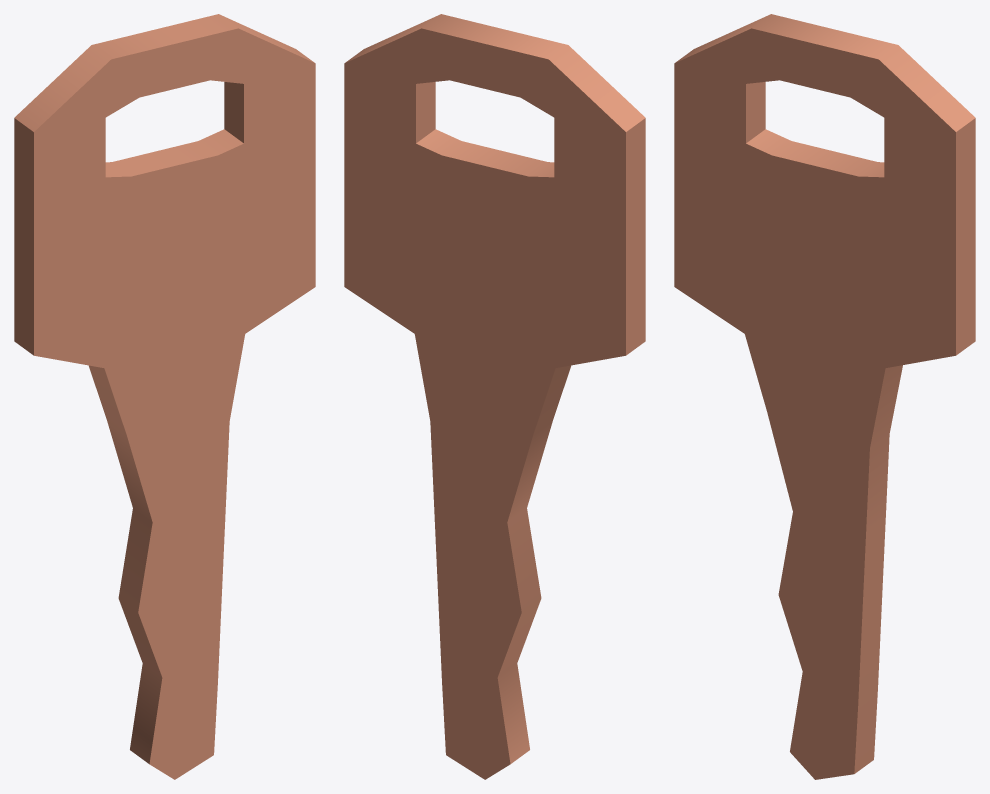
The model's file is key.fbx.
The picture shows the model from 3 angles, left to right: view 1: azimuth 30°, elevation 25°; view 2: azimuth 150°, elevation 25°; view 3: azimuth 330°, elevation 25°; orthographic projection.
Visible parts, largest first — view 1: key; view 2: key; view 3: key.
Part boxes in pixels (x1,y1,x2,y2): key: [14, 14, 315, 779]; key: [344, 14, 645, 779]; key: [674, 14, 975, 779].
Size of the model in its own units: 4.12 by 10.29 by 0.4987.
